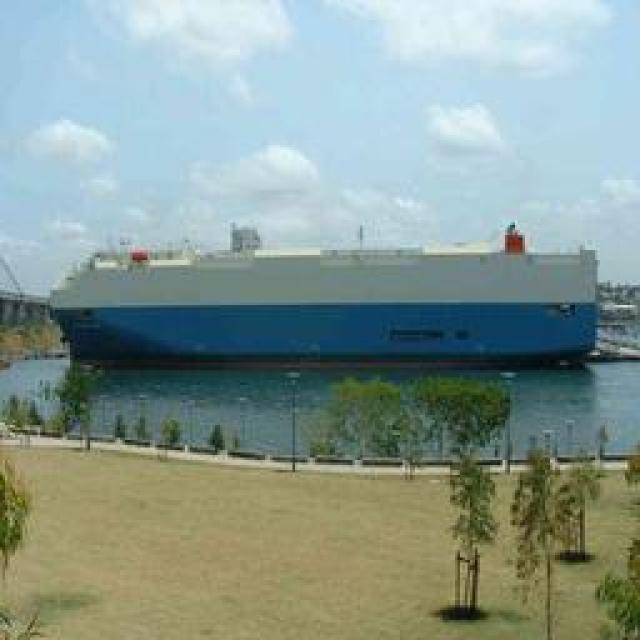CIV_Ship: (39, 246, 604, 364)
